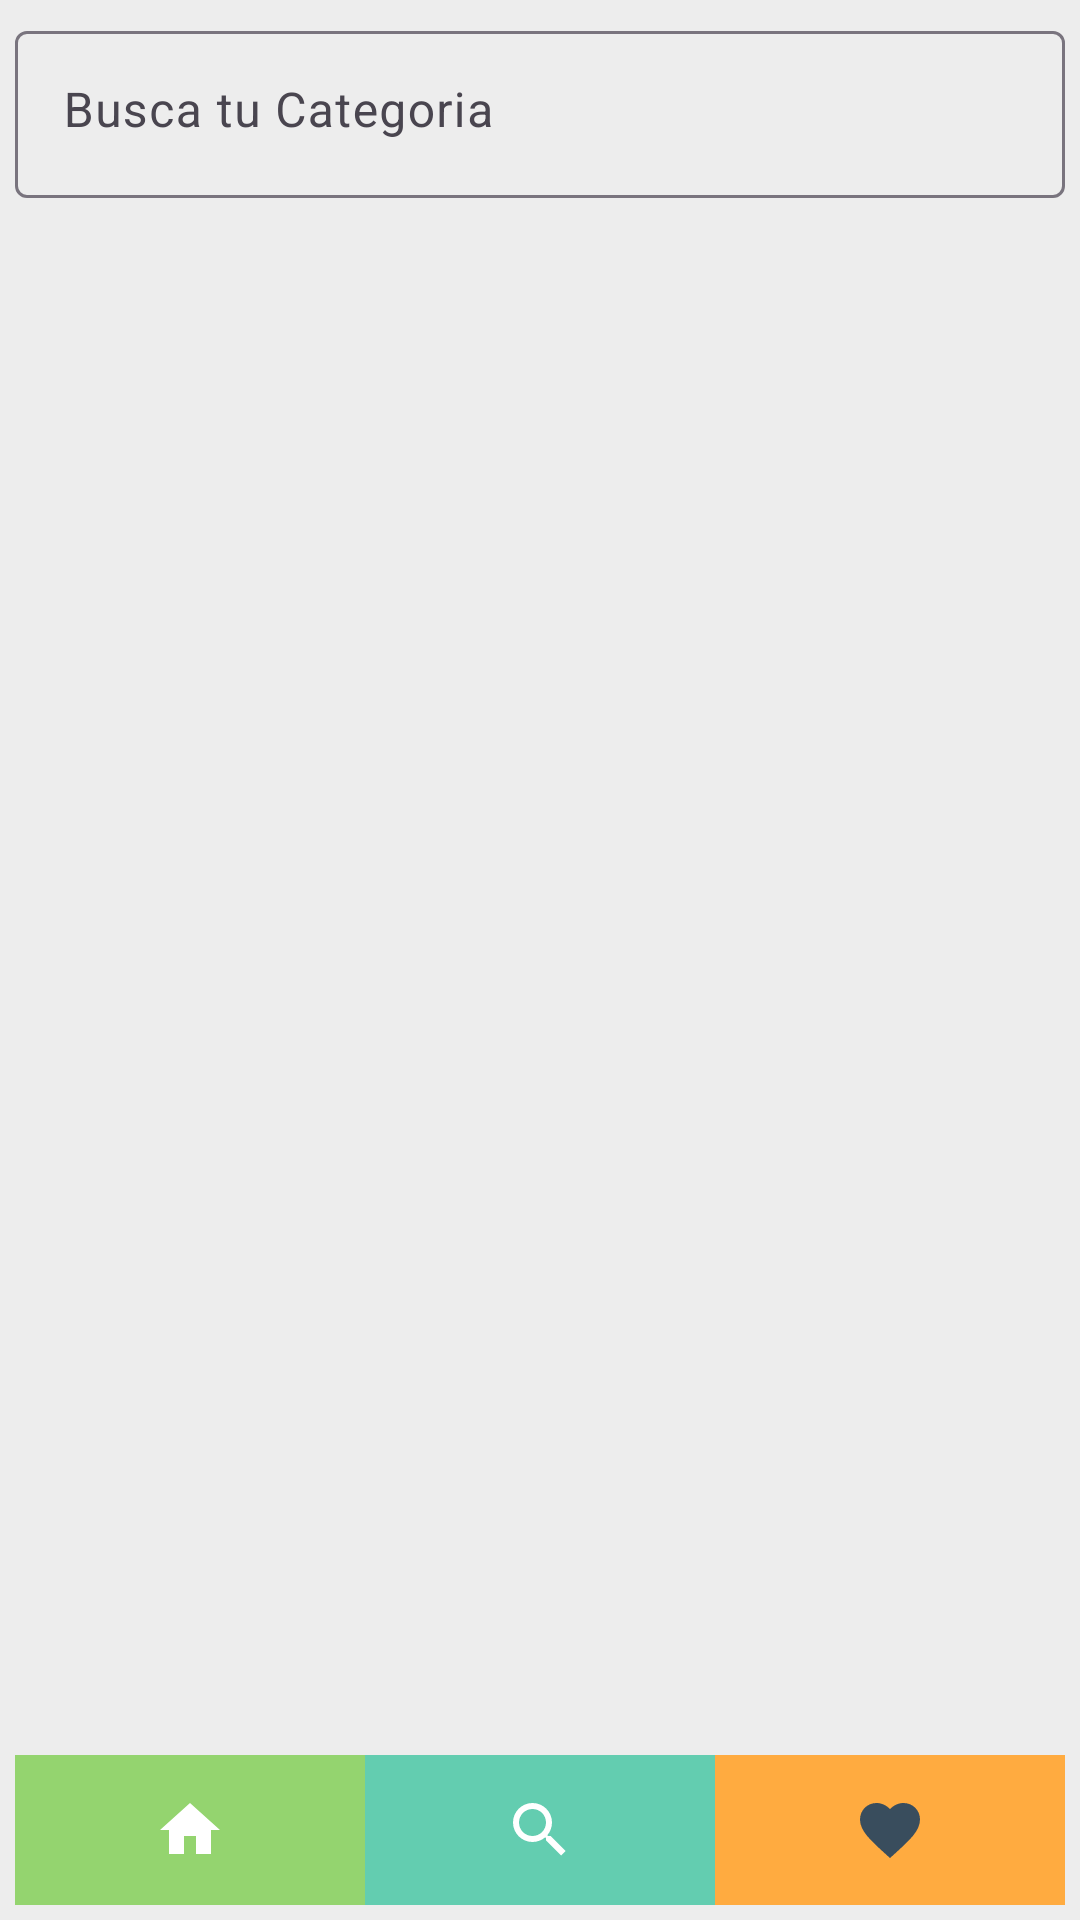

Icon bounding boxes for this 1080×1920 phone screenshot, format (x1, y1, x2, y2):
Boton Buscar: (365, 1755, 715, 1905)
Boton Favoritos: (715, 1755, 1065, 1905)
Boton Home: (15, 1755, 365, 1905)
